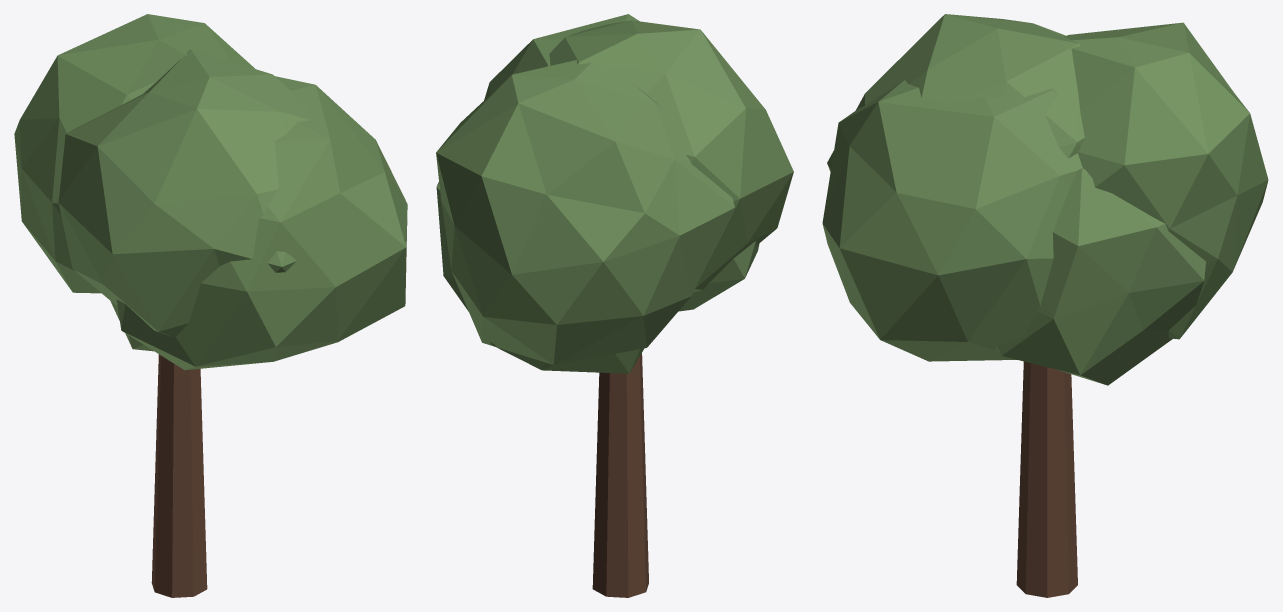
The model's file is tree_round_b.glb.
3 views of the same model, side by side, from view 1: azimuth 30°, elevation 25°; view 2: azimuth 150°, elevation 25°; view 3: azimuth 270°, elevation 25° (orthographic). The views are drawn at different scales.
Visible parts, largest first — view 1: Icosphere.001, Icosphere.002, Icosphere, Cylinder; view 2: Icosphere, Icosphere.001, Cylinder, Icosphere.002, Icosphere.003; view 3: Icosphere.002, Icosphere, Icosphere.003, Icosphere.001, Cylinder.
Boxes of the visible parts, x1,y1,x2,y2 form: Icosphere.001: (58, 49, 310, 337); Icosphere.002: (116, 76, 407, 370); Icosphere: (14, 14, 254, 293); Cylinder: (151, 354, 207, 597); Icosphere: (436, 60, 734, 364); Icosphere.001: (549, 20, 793, 292); Cylinder: (592, 353, 648, 597); Icosphere.002: (484, 14, 759, 311); Icosphere.003: (436, 182, 644, 373); Icosphere.002: (822, 80, 1082, 361); Icosphere: (1064, 22, 1268, 339); Icosphere.003: (995, 168, 1205, 385); Icosphere.001: (827, 14, 1084, 171); Cylinder: (1016, 361, 1077, 597).
Bounding box in the file's own units: 1.07 × 1.81 × 1.31.
